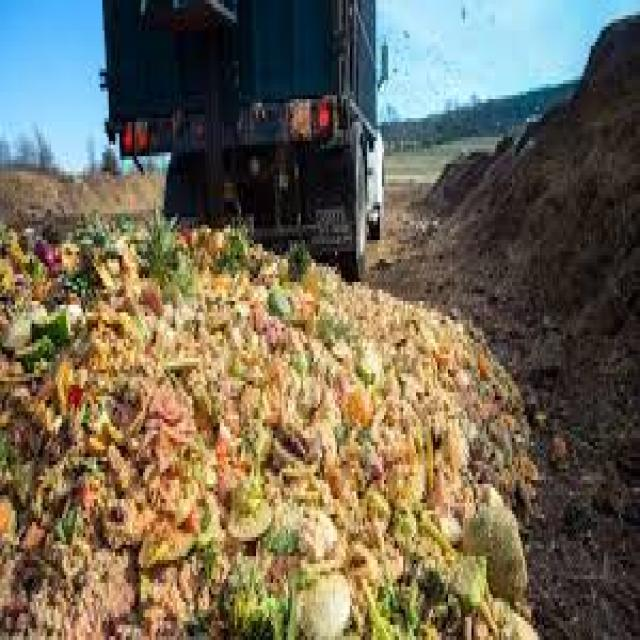food_waste: (8, 256, 518, 637)
